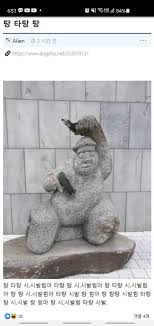Stone Statue: (14, 113, 130, 262)
